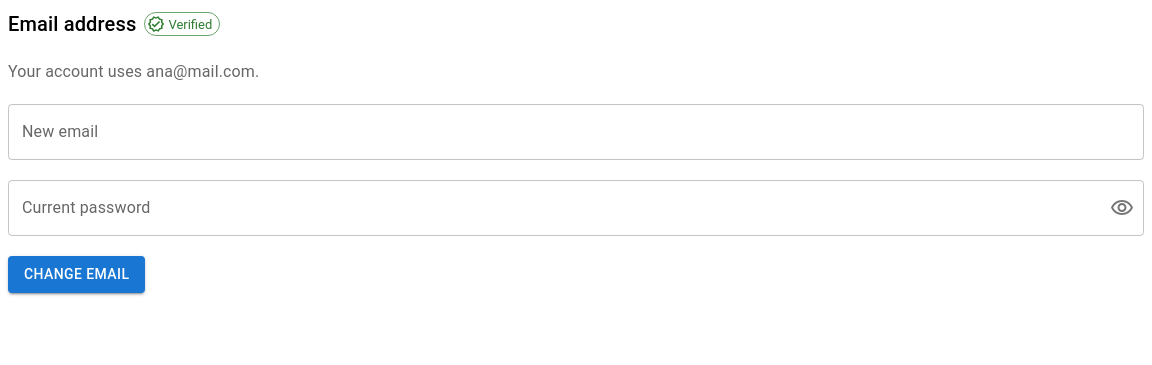
Test: EmailSection › does not call the API without the new address and the password
This screenshot has width=1152, height=365.
What coordinates should you click on to do the following:
click the button "Change email"
I would click on:
 (77, 274)
Its box is [8,256,145,292].
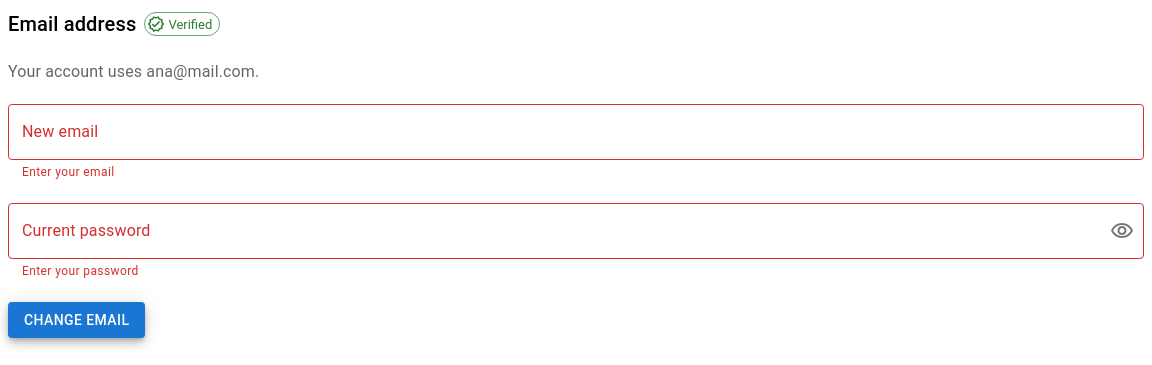
expect the text "Enter your email" is shown: met, box [22,165,114,179]
